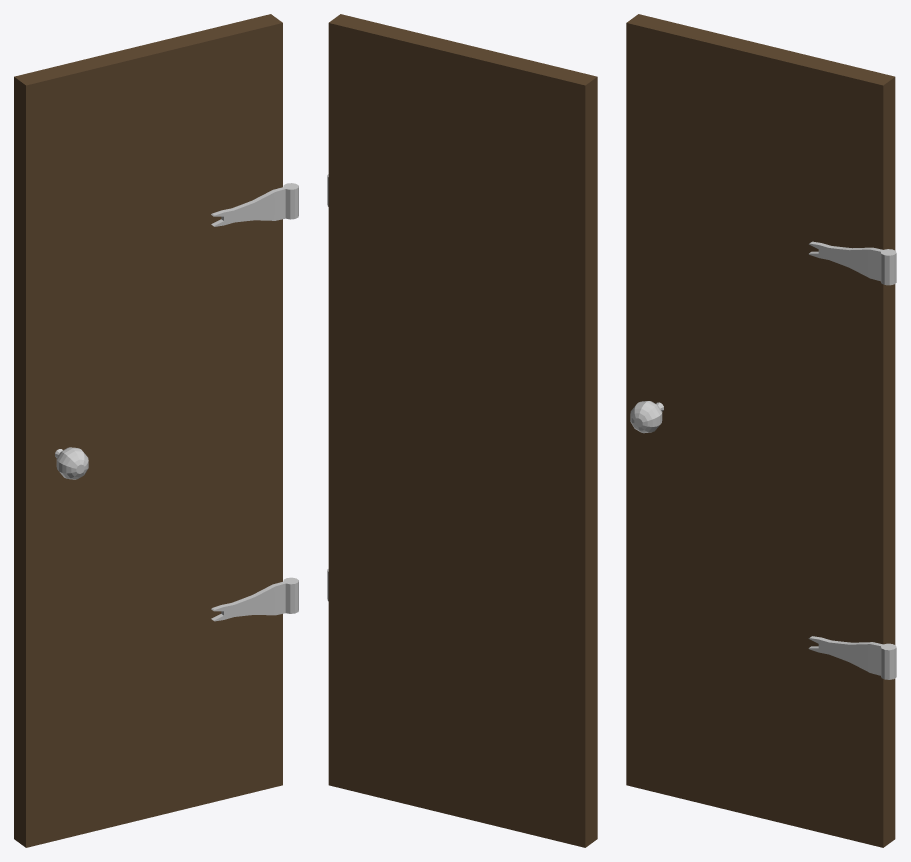
File: Cabinet_Door_Right_low.fbx
3 renders of one model, left to right at view 1: azimuth 30°, elevation 25°; view 2: azimuth 150°, elevation 25°; view 3: azimuth 330°, elevation 25°, orthographic.
Parts seen in each view (by area): view 1: Cabinet_Door_Right_low; view 2: Cabinet_Door_Right_low; view 3: Cabinet_Door_Right_low.
Boxes of the visible parts, x1=… form: Cabinet_Door_Right_low: x1=14, y1=14, x2=298, y2=847; Cabinet_Door_Right_low: x1=327, y1=14, x2=597, y2=847; Cabinet_Door_Right_low: x1=626, y1=14, x2=896, y2=847.
Size of the model in its own units: 65.84 by 177 by 14.06.
